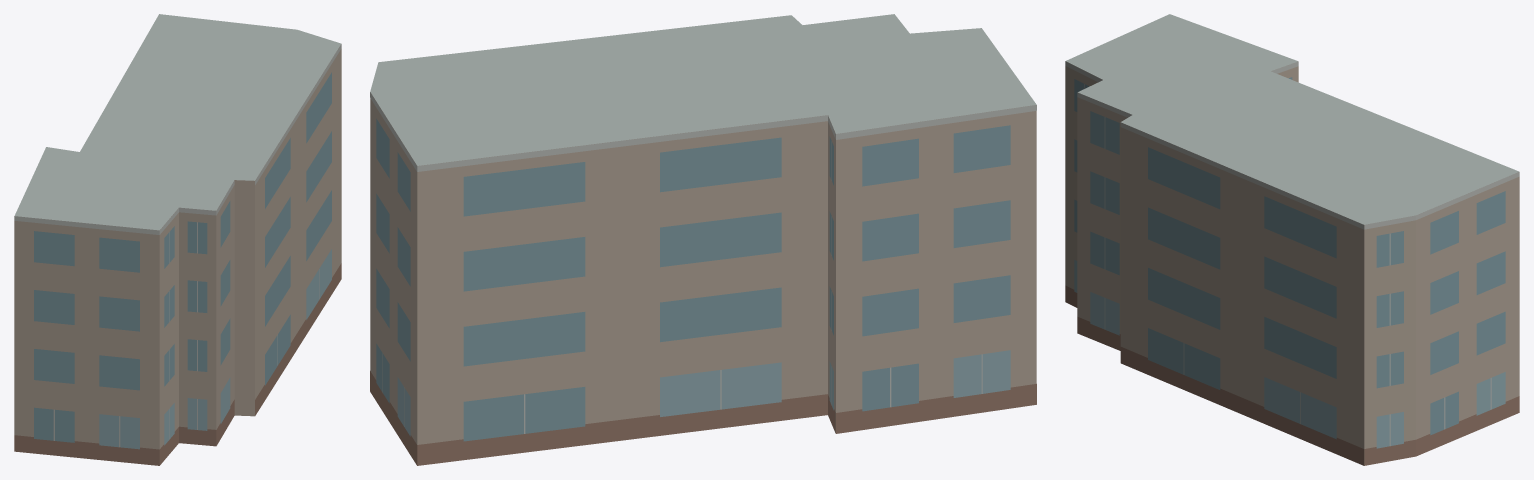
The model's file is survey-upis-32652035.glb.
3 renders of one model, left to right at view 1: azimuth 30°, elevation 25°; view 2: azimuth 150°, elevation 25°; view 3: azimuth 270°, elevation 25°, orthographic. The views are drawn at different scales.
Visible parts, largest first — view 1: survey-upis-32652035.tmp; view 2: survey-upis-32652035.tmp; view 3: survey-upis-32652035.tmp.
Boxes of the visible parts, box(x1,y1,x2,y2) form: survey-upis-32652035.tmp: box(14, 14, 341, 465); survey-upis-32652035.tmp: box(370, 14, 1036, 465); survey-upis-32652035.tmp: box(1065, 14, 1519, 465).
Size of the model in its own units: 22.89 by 12.2 by 20.84.
